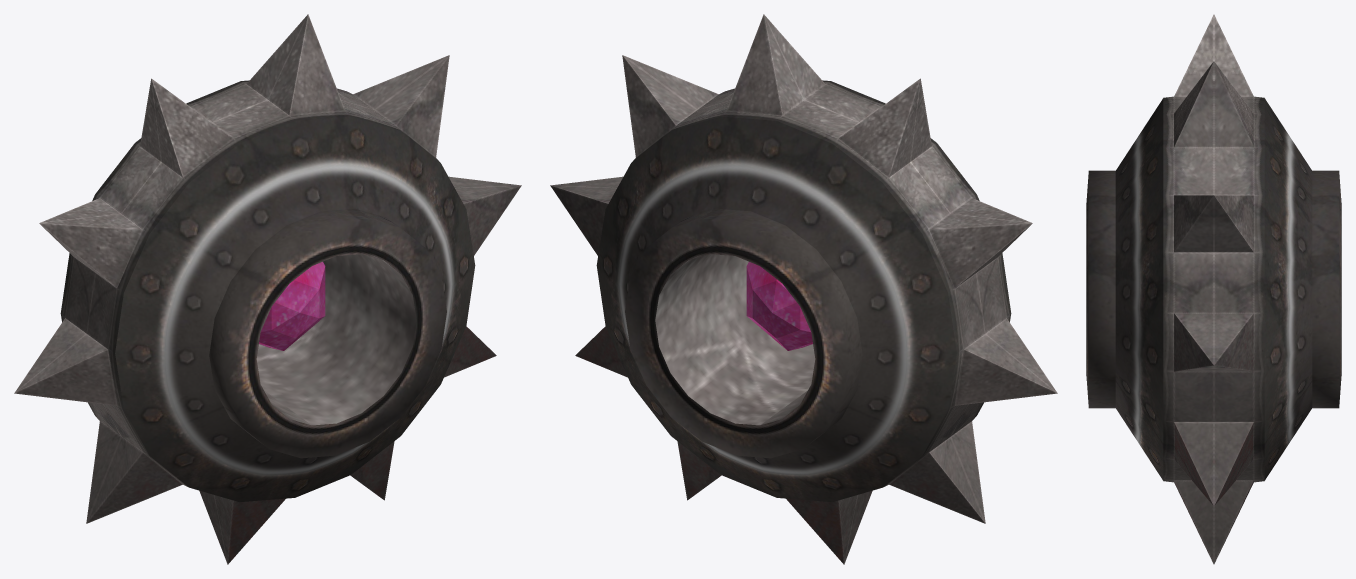
File: pinon.fbx
3 views of the same model, side by side, from view 1: azimuth 30°, elevation 25°; view 2: azimuth 150°, elevation 25°; view 3: azimuth 270°, elevation 25° (orthographic). The views are drawn at different scales.
Visible parts, largest first — view 1: polySurface7; view 2: polySurface7; view 3: polySurface7.
Part boxes in pixels (box(x1,y1,x2,y2)): polySurface7: box(14, 14, 521, 564); polySurface7: box(550, 14, 1057, 564); polySurface7: box(1086, 14, 1341, 564).
Size of the model in its own units: 215 by 215 by 101.
